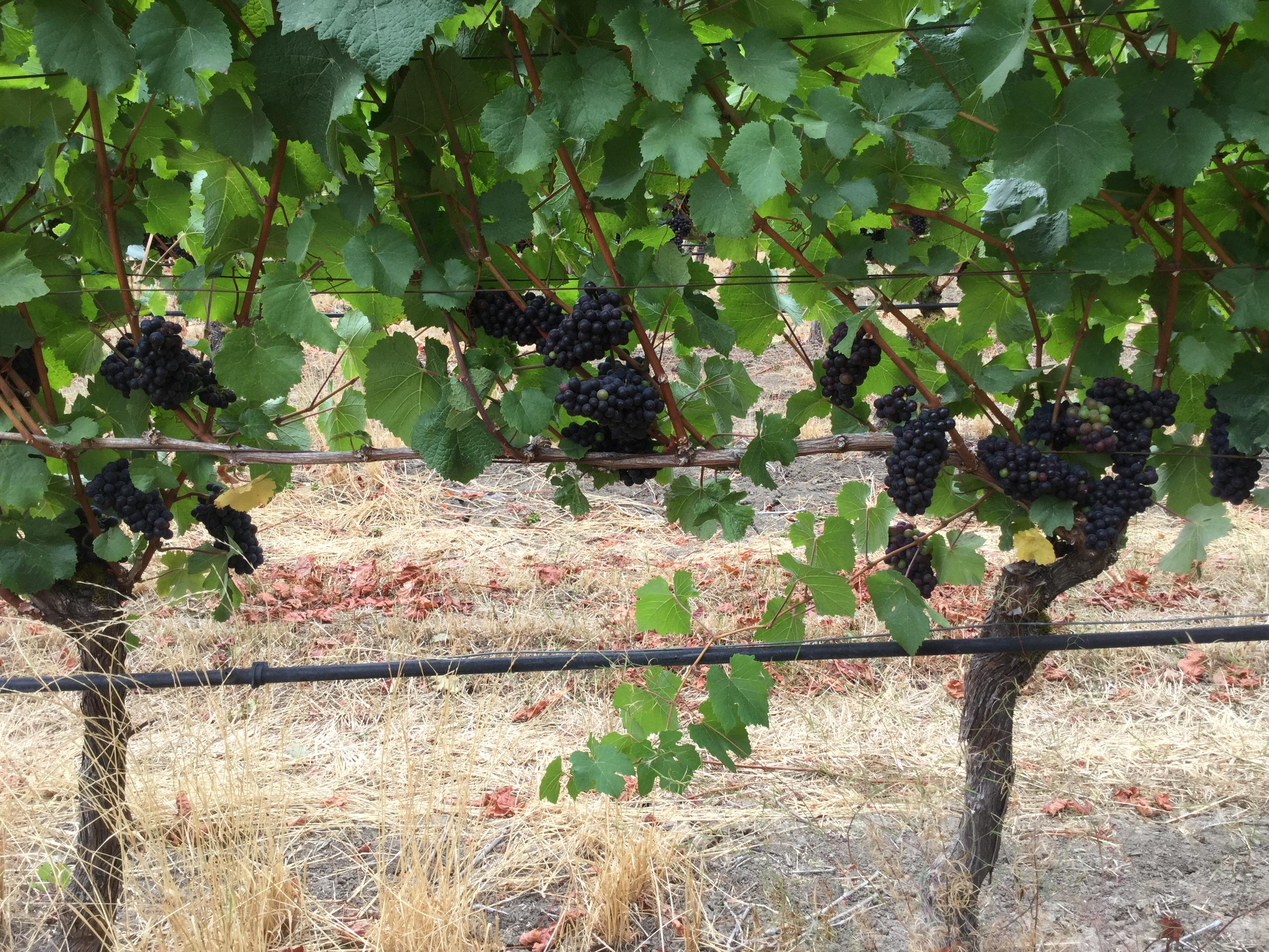leaf: (993, 76, 1131, 211), (250, 26, 364, 167), (277, 0, 464, 79), (130, 0, 232, 105), (33, 0, 135, 93), (610, 5, 701, 102), (540, 46, 633, 140), (363, 333, 441, 441), (409, 394, 500, 482), (1131, 107, 1224, 187), (959, 0, 1031, 99), (214, 322, 303, 402), (261, 261, 340, 351), (479, 86, 559, 173), (722, 117, 801, 205), (640, 94, 719, 177), (0, 513, 76, 593), (718, 261, 782, 355), (722, 26, 799, 102), (665, 476, 754, 541), (343, 224, 420, 297), (865, 569, 930, 654), (1158, 501, 1232, 574), (706, 654, 774, 731), (1071, 224, 1155, 284), (207, 90, 273, 164), (778, 553, 855, 616), (612, 666, 681, 733), (739, 410, 797, 488), (689, 700, 751, 772), (689, 174, 753, 237), (636, 570, 698, 634), (1158, 0, 1257, 40), (569, 738, 634, 797), (0, 234, 49, 306), (477, 180, 532, 244), (1212, 268, 1268, 329), (0, 442, 50, 509), (316, 388, 366, 451), (930, 532, 985, 585), (1029, 495, 1073, 536), (538, 756, 562, 803), (939, 575, 944, 580), (6, 27, 11, 32), (174, 182, 179, 183), (309, 217, 310, 221), (697, 163, 698, 167), (301, 254, 302, 257), (182, 222, 183, 225), (694, 206, 694, 206), (688, 173, 690, 173), (694, 170, 694, 170), (389, 338, 390, 338), (1043, 497, 1051, 497)
